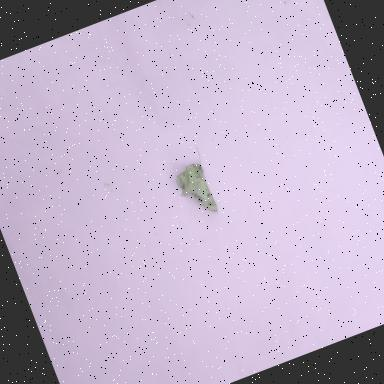abw: (162, 140, 224, 222)
